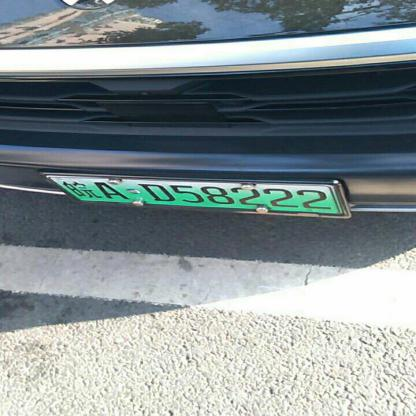lp: (47, 176, 80, 214)
